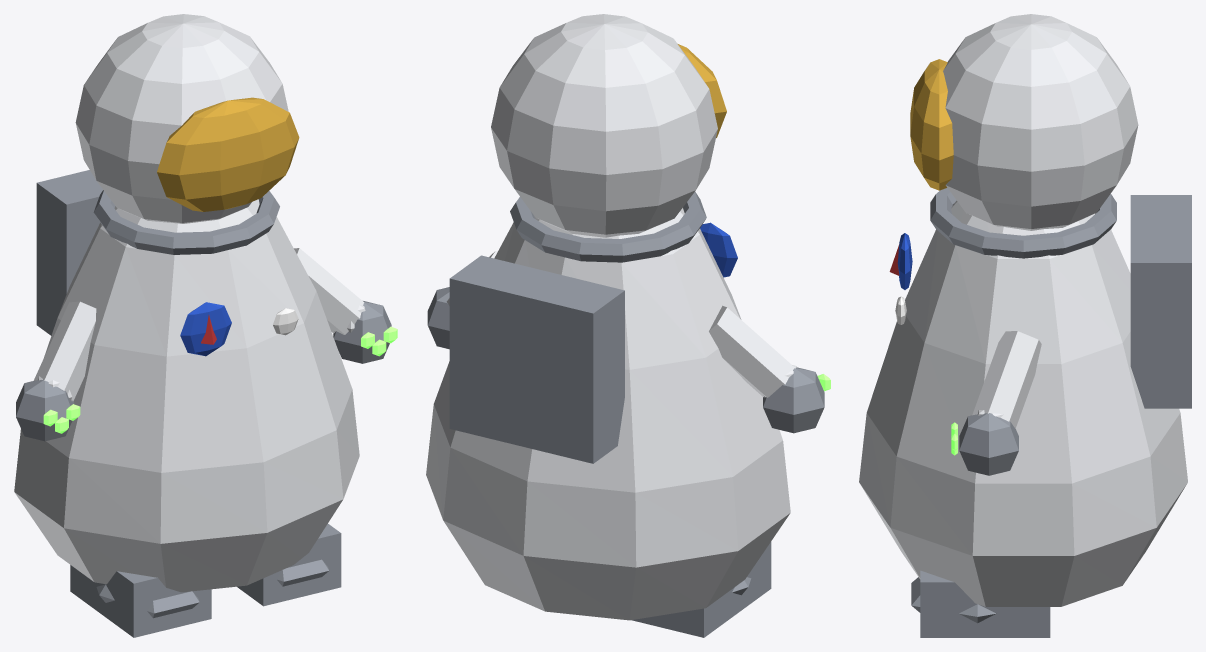
The model's file is npc_guia.glb.
The picture shows the model from 3 angles, left to right: view 1: azimuth 30°, elevation 25°; view 2: azimuth 150°, elevation 25°; view 3: azimuth 270°, elevation 25°; orthographic projection. The views are drawn at different scales.
Parts seen in each view (by area): view 1: body_astro_suit, helmet_astro_suit, helmet_visor, legs_astro_grey, body_astro_grey, arms_astro_suit, helmet_astro_grey, glove_left_astro_grey, glove_right_astro_grey, body_astro_patch, glow_right_glow_paint, glow_left_glow_paint; view 2: body_astro_suit, helmet_astro_suit, body_astro_grey, helmet_astro_grey, arms_astro_suit, legs_astro_grey, glove_left_astro_grey, body_astro_patch, glove_right_astro_grey, helmet_visor; view 3: body_astro_suit, helmet_astro_suit, body_astro_grey, legs_astro_grey, helmet_astro_grey, helmet_visor, arms_astro_suit, glove_right_astro_grey, body_astro_patch.
Boxes of the visible parts, x1,y1,x2,y2 form: body_astro_suit: (14,199,359,592); helmet_astro_suit: (75,14,288,223); helmet_visor: (157,97,299,211); legs_astro_grey: (70,524,341,637); body_astro_grey: (36,170,102,335); arms_astro_suit: (33,248,365,401); helmet_astro_grey: (93,190,279,254); glove_left_astro_grey: (16,379,74,441); glove_right_astro_grey: (333,301,391,363); body_astro_patch: (180,302,231,356); glow_right_glow_paint: (361,326,397,356); glow_left_glow_paint: (43,404,80,433); body_astro_suit: (426,208,790,620); helmet_astro_suit: (491,14,717,237); body_astro_grey: (449,255,624,463); helmet_astro_grey: (510,191,706,262); arms_astro_suit: (446,251,796,397); legs_astro_grey: (632,541,771,637); glove_left_astro_grey: (763,367,824,433); body_astro_patch: (700,222,737,277); glove_right_astro_grey: (427,287,449,349); helmet_visor: (678,44,726,137); body_astro_suit: (859,200,1187,606); helmet_astro_suit: (943,14,1138,230); body_astro_grey: (1130,195,1191,408); legs_astro_grey: (911,570,1050,637); helmet_astro_grey: (930,187,1116,258); helmet_visor: (910,59,953,190); arms_astro_suit: (972,331,1041,428); glove_right_astro_grey: (959,413,1018,475); body_astro_patch: (897,233,912,289).
Bounding box in the file's own units: 1.16 × 1.63 × 0.87.
